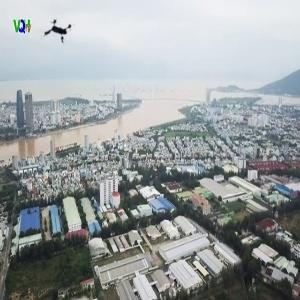drone: (39, 14, 81, 56)
